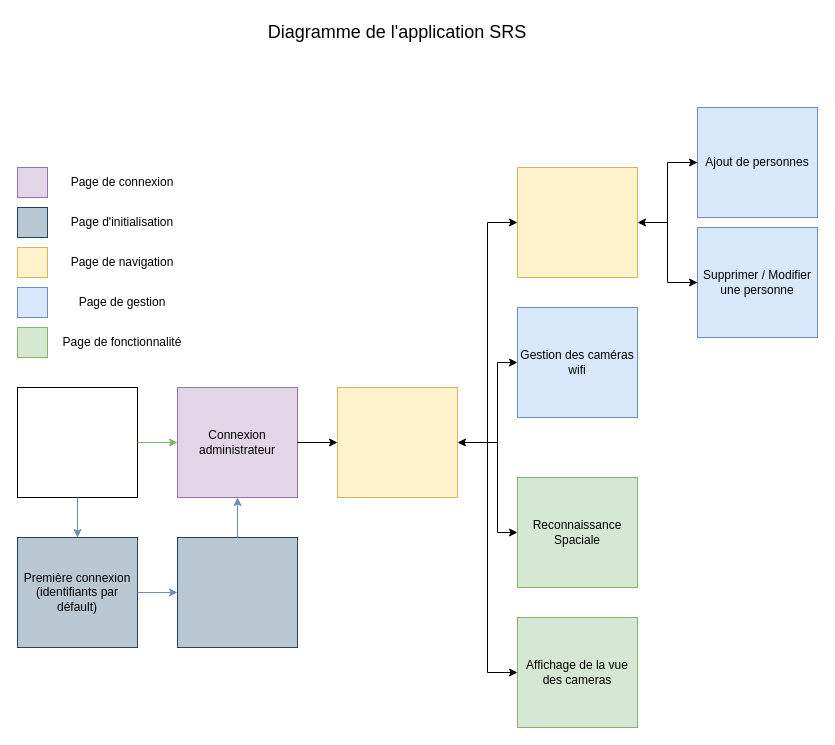
The diagram is 835 pixels wide and 745 high, and some of its shapes have lost their labels. The shapes that lost their labels are listed below. From the top down, each one's centre as x and y in pixels, then its label:
the point at 577,222: Gestion des données faciales
the point at 77,442: Recherche de serveurs
the point at 397,442: Accueil
the point at 237,592: Ajout d'administrateur
